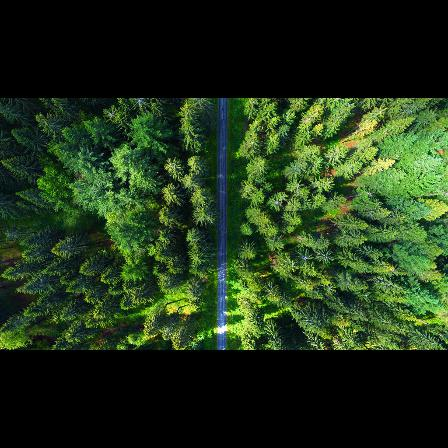Sick: (102, 107, 125, 125), (130, 98, 150, 112), (323, 282, 337, 296), (297, 251, 312, 264), (321, 251, 332, 265)
